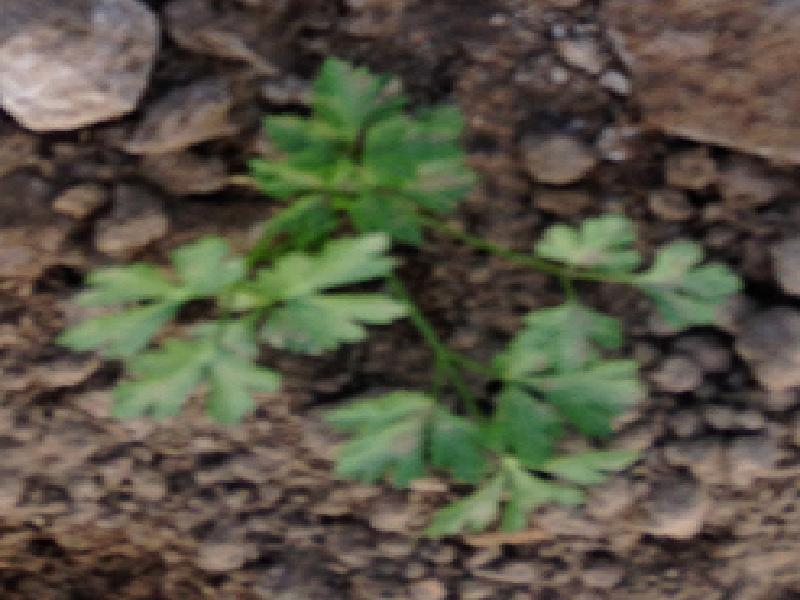radish: (64, 45, 726, 563)
